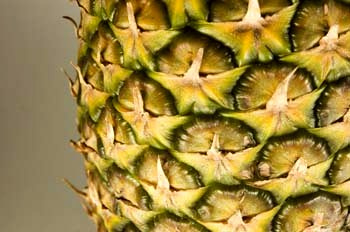pineapple: (62, 1, 349, 231)
